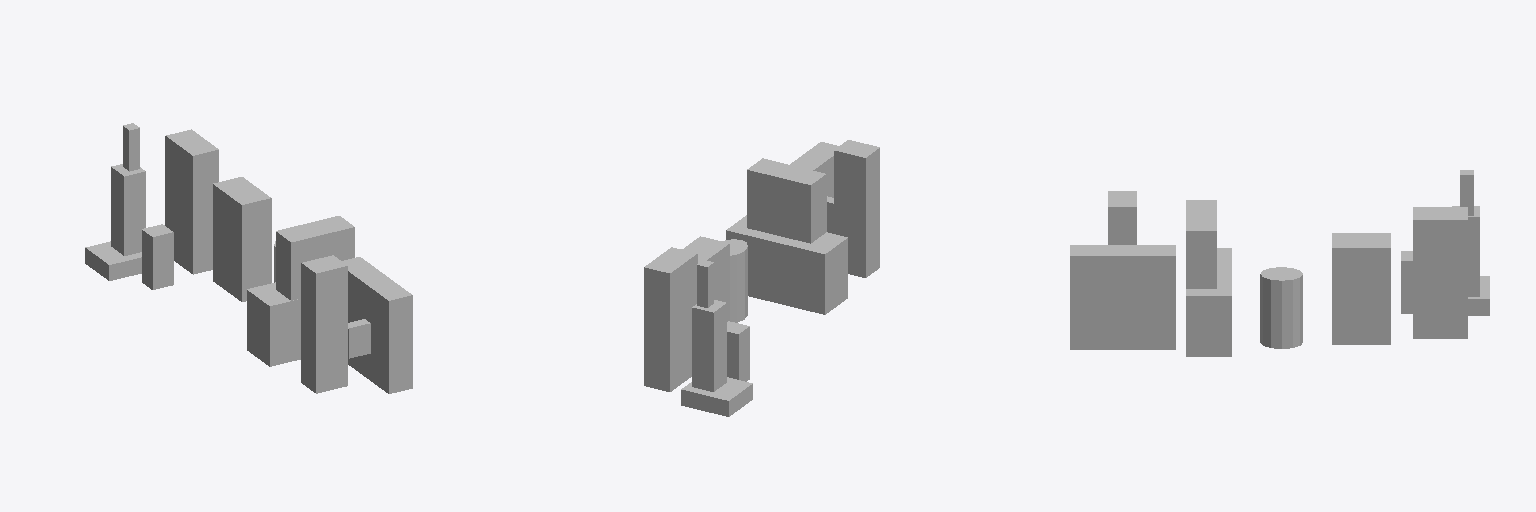
Rendered from Buildings.obj.
The picture shows the model from 3 angles: view 1: azimuth 30°, elevation 25°; view 2: azimuth 150°, elevation 25°; view 3: azimuth 270°, elevation 25°; orthographic projection.
Parts seen in each view (by area): view 1: Buildings; view 2: Buildings; view 3: Buildings.
Part boxes in pixels (x1,y1,x2,y2): Buildings: (85,123,412,393); Buildings: (644,140,879,416); Buildings: (1070,170,1489,356).
Size of the model in its own units: 145 by 144 by 401.